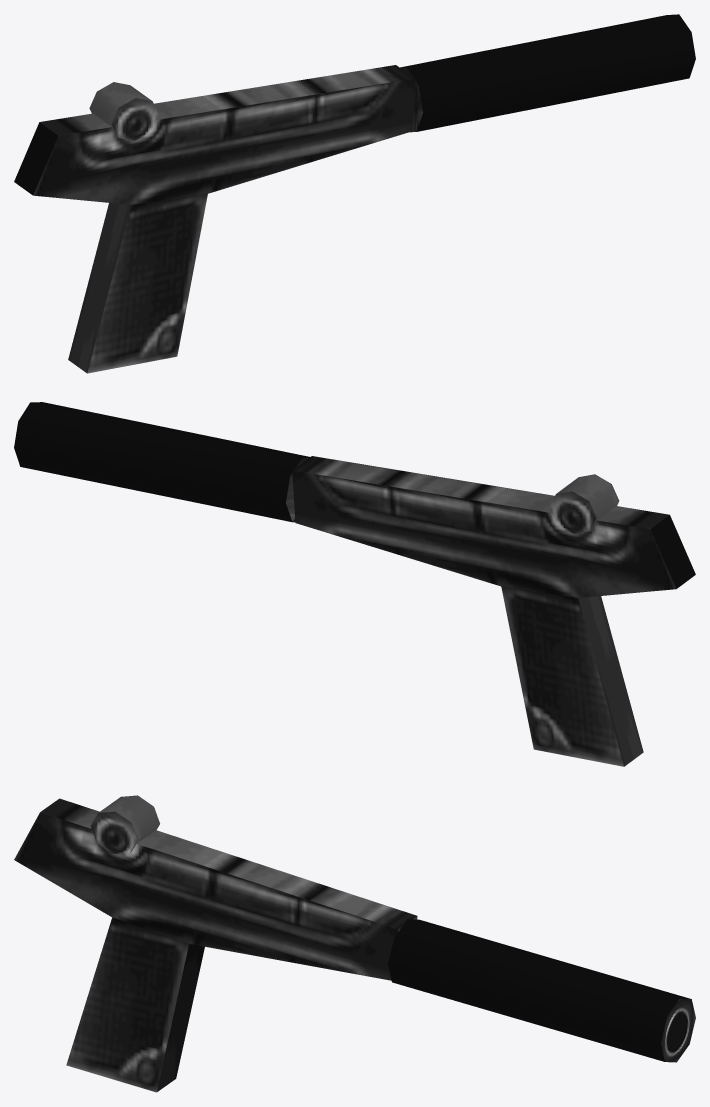
File: p_spygun.glb
3 views of the same model, one above another, from view 1: azimuth 30°, elevation 25°; view 2: azimuth 150°, elevation 25°; view 3: azimuth 330°, elevation 25° (orthographic).
Visible parts, largest first — view 1: p_spygun; view 2: p_spygun; view 3: p_spygun.
Part boxes in pixels (x1,y1,x2,y2): p_spygun: (14, 14, 695, 373); p_spygun: (14, 402, 695, 766); p_spygun: (14, 795, 695, 1092).
Bounding box in the file's own units: 15.31 × 6.02 × 1.46.
Materials: 2 (2 with a texture image).
